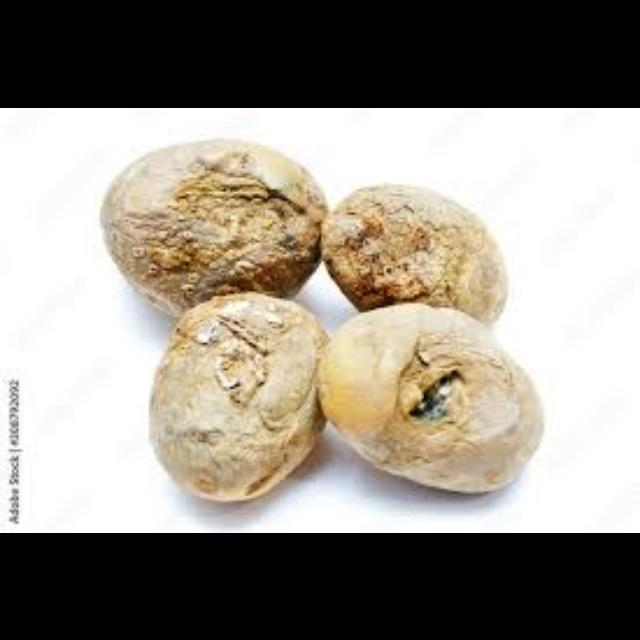Damaged potato: (306, 309, 556, 497), (149, 295, 335, 503), (92, 140, 326, 302), (318, 184, 516, 330)
